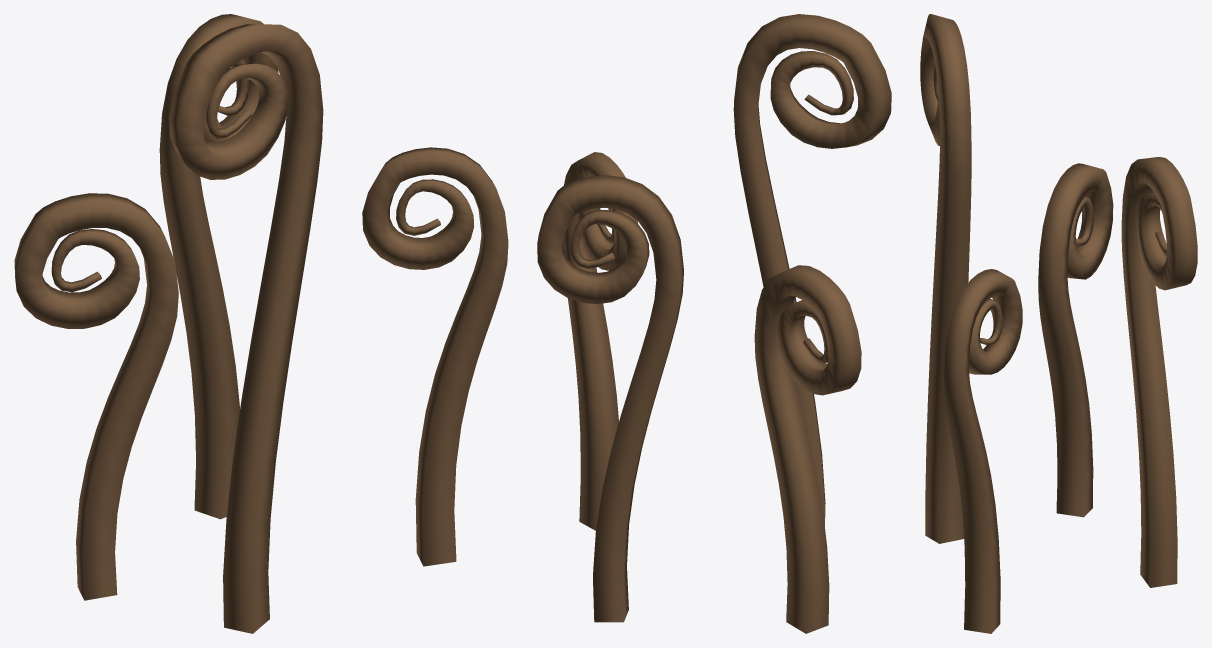
Rendered from quaternius-ultimate-space-plant-3-transformed.glb.
3 renders of one model, left to right at view 1: azimuth 30°, elevation 25°; view 2: azimuth 150°, elevation 25°; view 3: azimuth 270°, elevation 25°, orthographic. The views are drawn at different scales.
Parts seen in each view (by area): view 1: Plant_3; view 2: Plant_3; view 3: Plant_3.
Boxes of the visible parts, box(x1,y1,x2,y2) form: Plant_3: box(14, 14, 508, 633); Plant_3: box(537, 14, 891, 633); Plant_3: box(920, 14, 1197, 633).
Size of the model in its own units: 2.12 by 2.98 by 1.44.
1 material, 1 textured.
